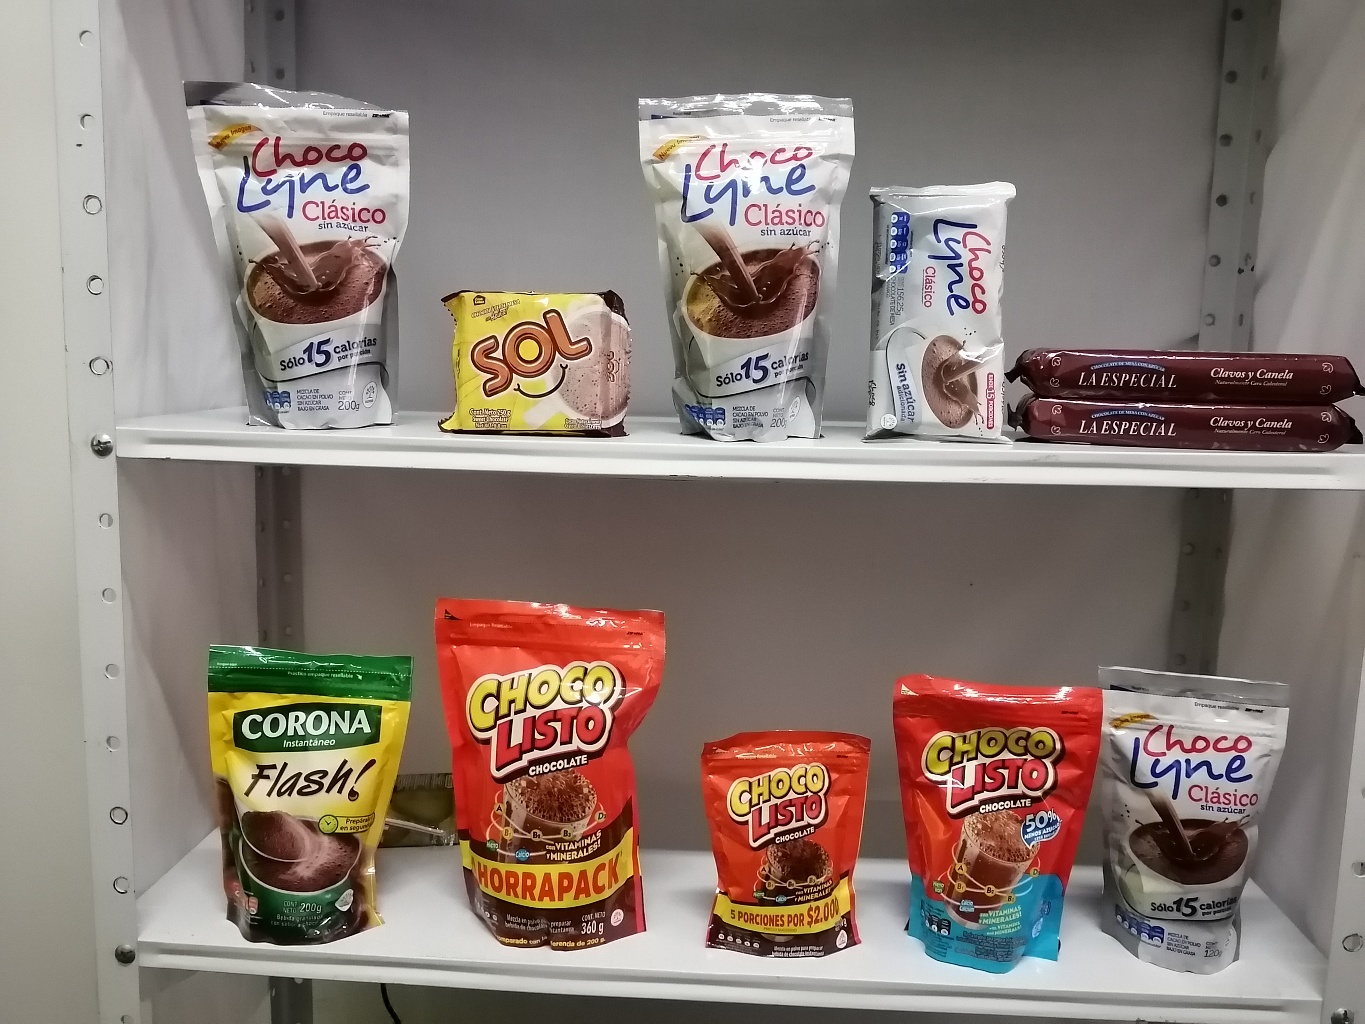COL0170103DYP36000: (422, 583, 679, 962)
COL0170104DYP20000: (880, 664, 1101, 985)
